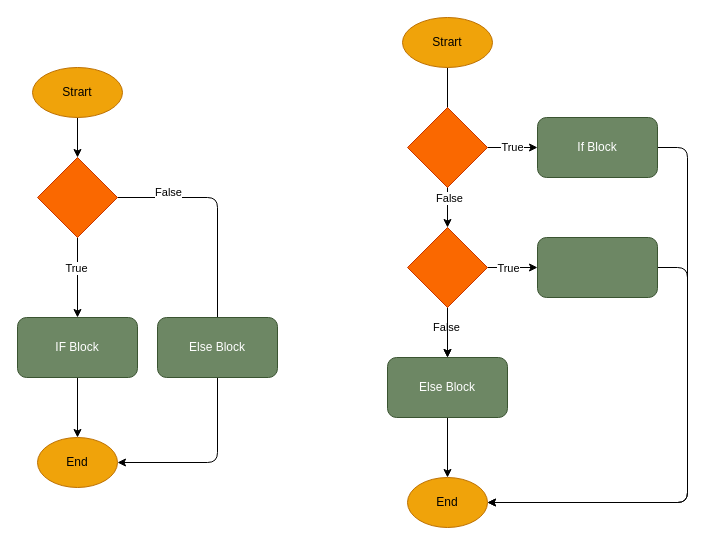
The diagram is 713 pixels wide and 545 high, and some of its shapes have lost their labels. The shapes that lost their labels are listed below. From the top down, each one's centre as x and y in pixels, then its label:
At point 447,147: "Kondisi 1".
At point 77,197: "Kondisi".
At point 447,267: "Kondisi 2".
At point 597,267: "Else If Block".
